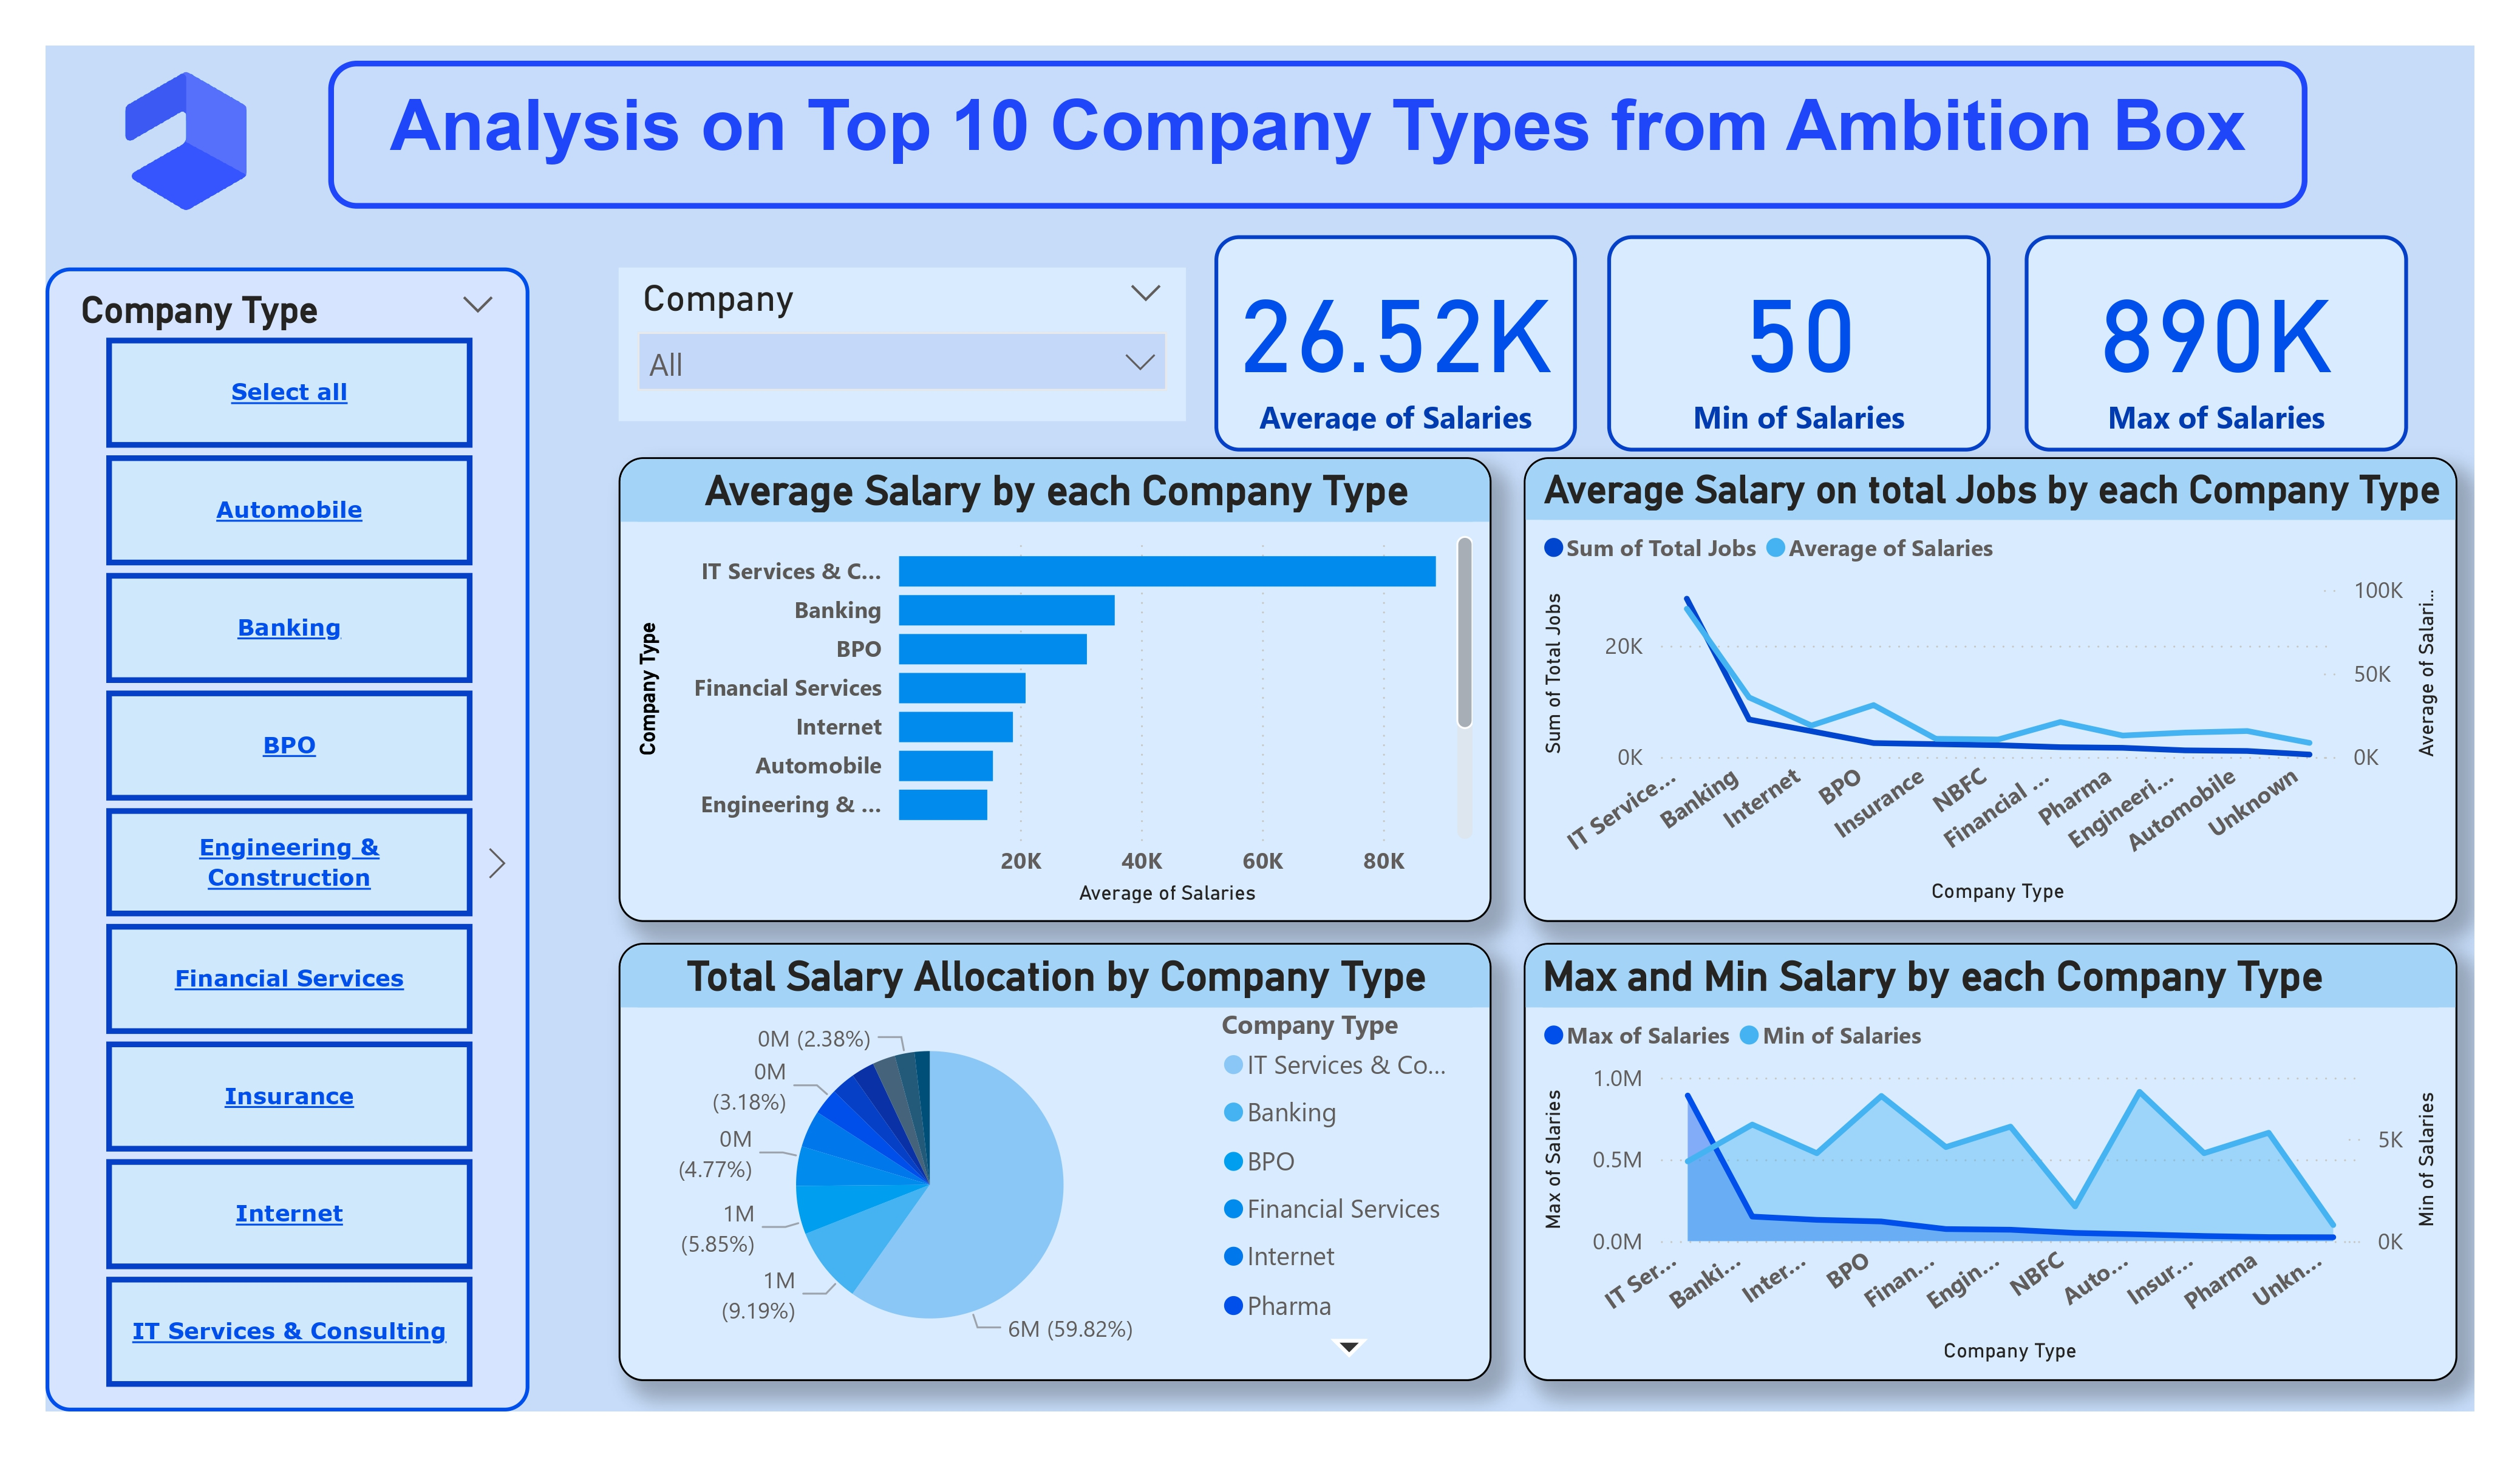

Layout of this report page (visuals, bound fields, positions):
{"tool":"powerbi","page":{"name":"Analysis on Salaries","canvas":[1280,720],"ordinal":0},"visuals":[{"type":"clusteredBarChart","title":"Average Salary by each Company Type","fields":{"Category":["Companies_500_Cleaned.Company Type"],"Y":["Avg(Companies_500_Cleaned.Salaries)"]},"box":[301.9,216.8,459.7,245.6],"z":0},{"type":"lineChart","title":"Average Salary on total Jobs by each Company Type","fields":{"Y2":["Avg(Companies_500_Cleaned.Salaries)"],"Y":["Sum(Companies_500_Cleaned.Total Jobs)"],"Category":["Companies_500_Cleaned.Company Type"]},"box":[779.4,216.8,491.3,245.6],"z":1000},{"type":"areaChart","title":"Max and Min Salary by each Company Type","fields":{"Category":["Companies_500_Cleaned.Company Type"],"Y":["Max(Companies_500_Cleaned.Salaries)"],"Y2":["Min(Companies_500_Cleaned.Salaries)1"]},"box":[779.4,473.4,491.3,230.5],"z":2000},{"type":"image","box":[0,0,149.3,100],"z":3000},{"type":"textbox","box":[149.3,8.5,1042.3,77.5],"z":4000},{"type":"slicer","fields":{"Values":["Companies_500_Cleaned.Company Type"]},"box":[0,116.6,255.2,603.8],"z":5000},{"type":"slicer","fields":{"Values":["Companies_500_Cleaned.Title"]},"box":[301.9,116.6,299.1,81],"z":6000},{"type":"pieChart","title":"Total Salary Allocation by Company Type","fields":{"Category":["Companies_500_Cleaned.Company Type"],"Y":["Sum(Companies_500_Cleaned.Salaries)"]},"box":[301.9,473.4,459.7,230.5],"z":7000},{"type":"card","fields":{"Values":["Avg(Companies_500_Cleaned.Salaries)"]},"box":[616.1,100.2,190.7,113.9],"z":8000},{"type":"card","fields":{"Values":["Min(Companies_500_Cleaned.Salaries)"]},"box":[823.3,100.2,201.7,113.9],"z":9000},{"type":"card","fields":{"Values":["Max(Companies_500_Cleaned.Salaries)"]},"box":[1042.9,100.2,201.7,113.9],"z":10000}]}

Visuals, with their boxes in screenshot pixels (x1, y1, x2, y2):
"Average Salary by each Company Type" clusteredBarChart: [x1=618, y1=457, x2=1491, y2=923]
"Average Salary on total Jobs by each Company Type" lineChart: [x1=1525, y1=457, x2=2457, y2=923]
"Max and Min Salary by each Company Type" areaChart: [x1=1525, y1=943, x2=2457, y2=1381]
image: [x1=46, y1=46, x2=329, y2=236]
textbox: [x1=329, y1=62, x2=2307, y2=209]
slicer - Companies_500_Cleaned.Company Type: [x1=46, y1=267, x2=530, y2=1411]
slicer - Companies_500_Cleaned.Title: [x1=618, y1=267, x2=1186, y2=420]
"Total Salary Allocation by Company Type" pieChart: [x1=618, y1=943, x2=1491, y2=1381]
card - Avg(Companies_500_Cleaned.Salaries): [x1=1214, y1=236, x2=1576, y2=452]
card - Min(Companies_500_Cleaned.Salaries): [x1=1608, y1=236, x2=1990, y2=452]
card - Max(Companies_500_Cleaned.Salaries): [x1=2025, y1=236, x2=2407, y2=452]
